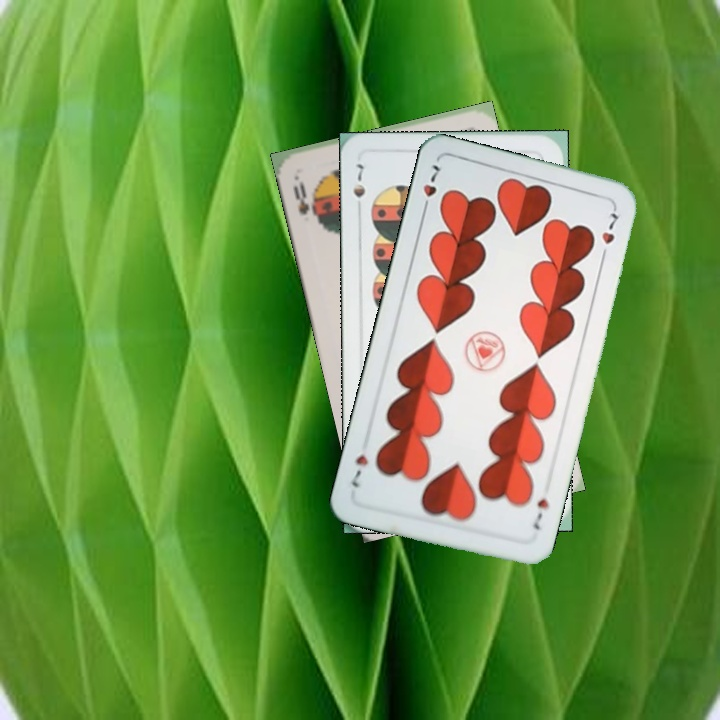H7: (418, 160, 443, 217), (528, 494, 552, 533)
S7: (349, 159, 368, 200)
SO: (289, 177, 312, 218)
